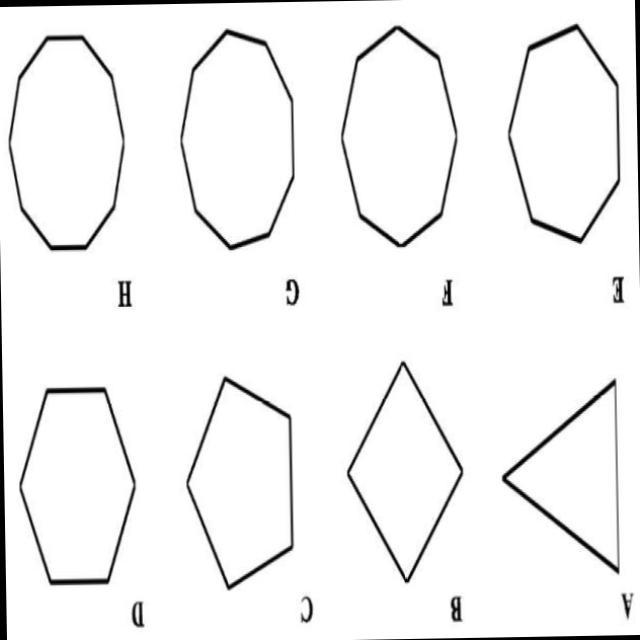triangle: (478, 358, 640, 595)
